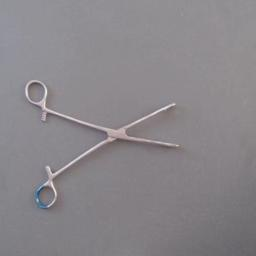Sponge Forceps: (24, 75, 184, 213)
